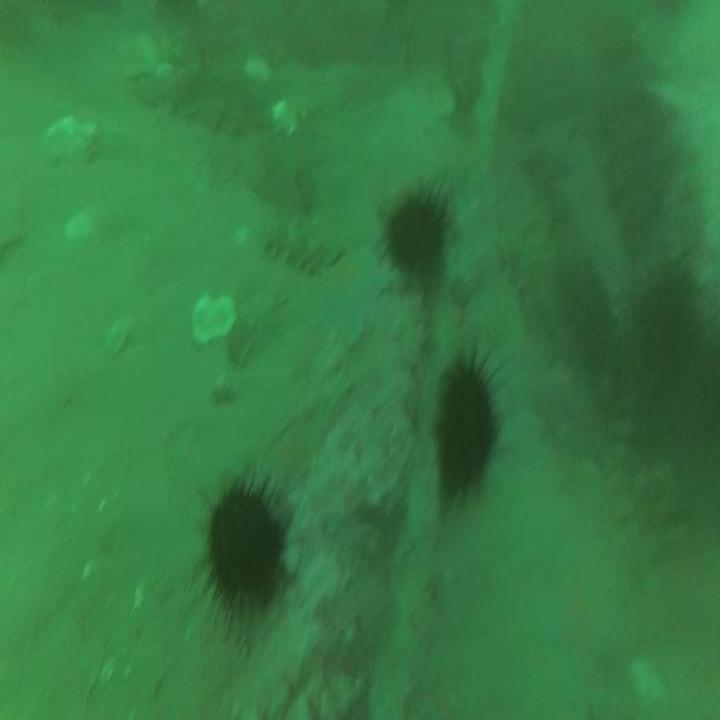echinus: (207, 492, 279, 601), (439, 369, 495, 500), (386, 197, 446, 283)
holothurian: (263, 212, 345, 278)
